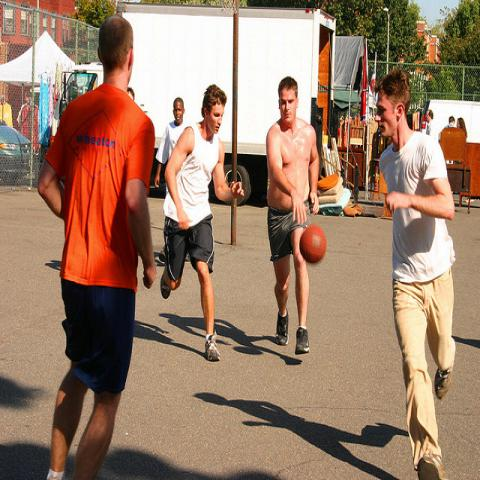car: (0, 126, 30, 186)
truck: (123, 5, 348, 217)
